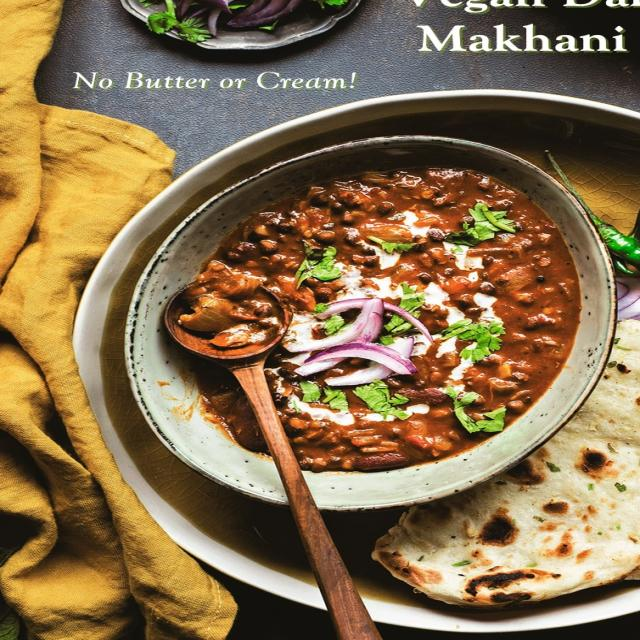dal_makhani: (226, 170, 572, 450)
